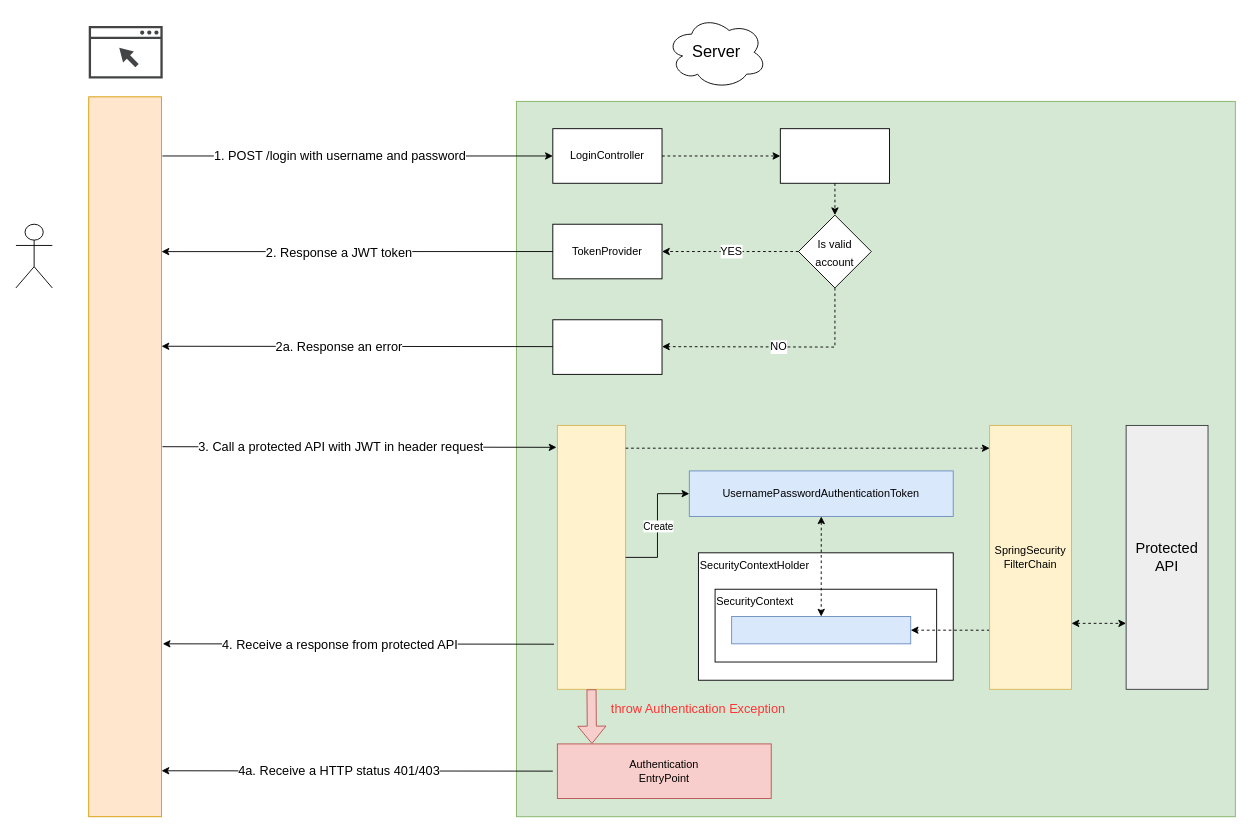
This 1251x833 diagram has some shape labels left out. The shapes that lost their labels are listed below. From the top down, each one's centre as x and y in pixels, then its label:
At pixel 834 155: "UserDetailsService".
At pixel 33 255: "User".
At pixel 607 346: "ExceptionHandler".
At pixel 591 557: "JWTFilter".
At pixel 821 630: "Authentication".
